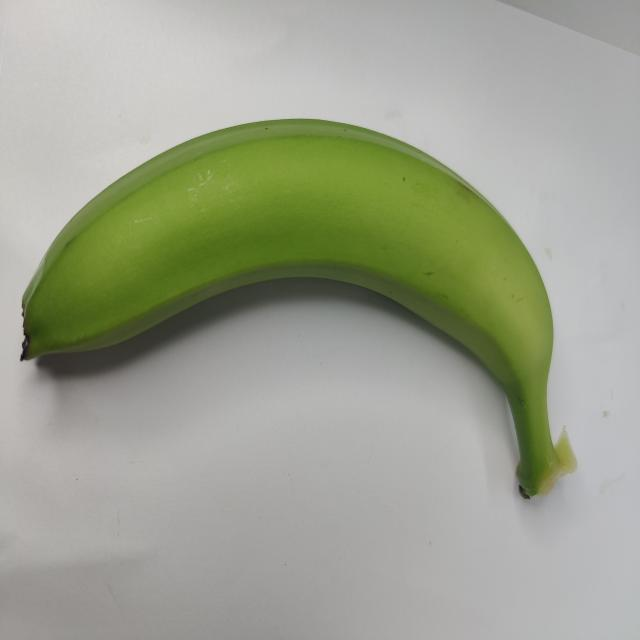raw: (2, 94, 599, 542)
